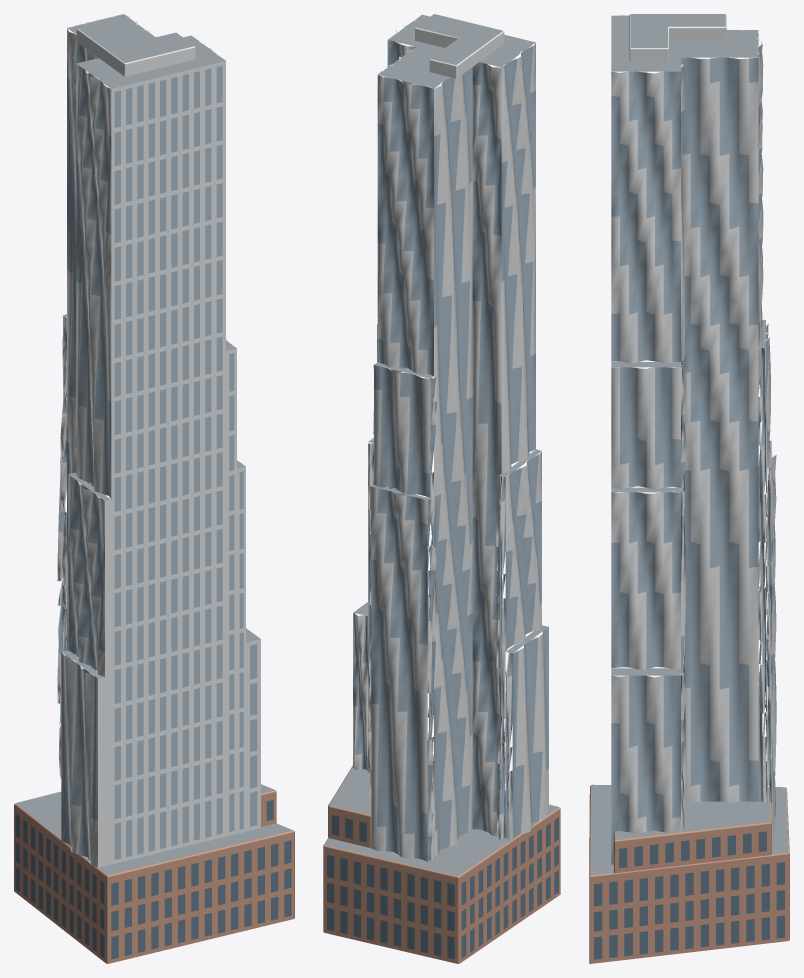
The model's file is nyc-8-spruce.glb.
The picture shows the model from 3 angles, left to right: view 1: azimuth 30°, elevation 25°; view 2: azimuth 150°, elevation 25°; view 3: azimuth 270°, elevation 25°; orthographic projection.
Visible parts, largest first — view 1: 8 Spruce Street; view 2: 8 Spruce Street; view 3: 8 Spruce Street.
Part boxes in pixels (bbox=[...]): 8 Spruce Street: bbox=[14, 14, 294, 963]; 8 Spruce Street: bbox=[323, 14, 560, 963]; 8 Spruce Street: bbox=[589, 14, 789, 963].
Size of the model in its own units: 61.13 by 269 by 55.87.
